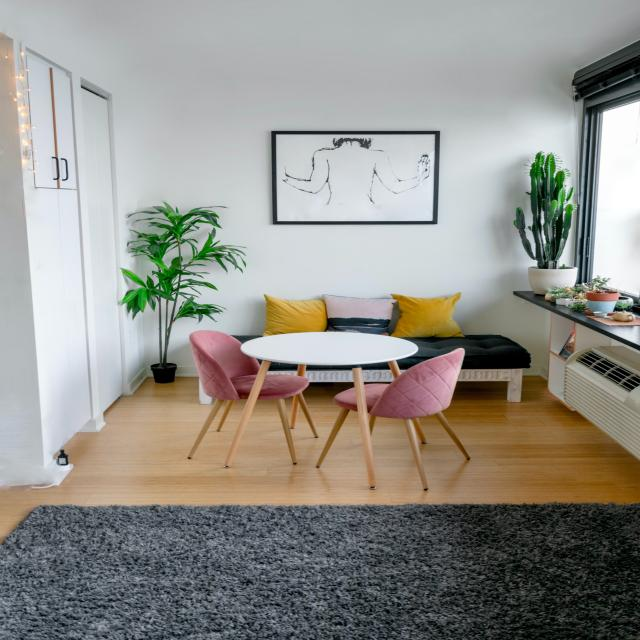floor: (0, 376, 640, 544)
wall: (130, 62, 579, 377), (120, 304, 148, 397), (142, 298, 160, 377)
